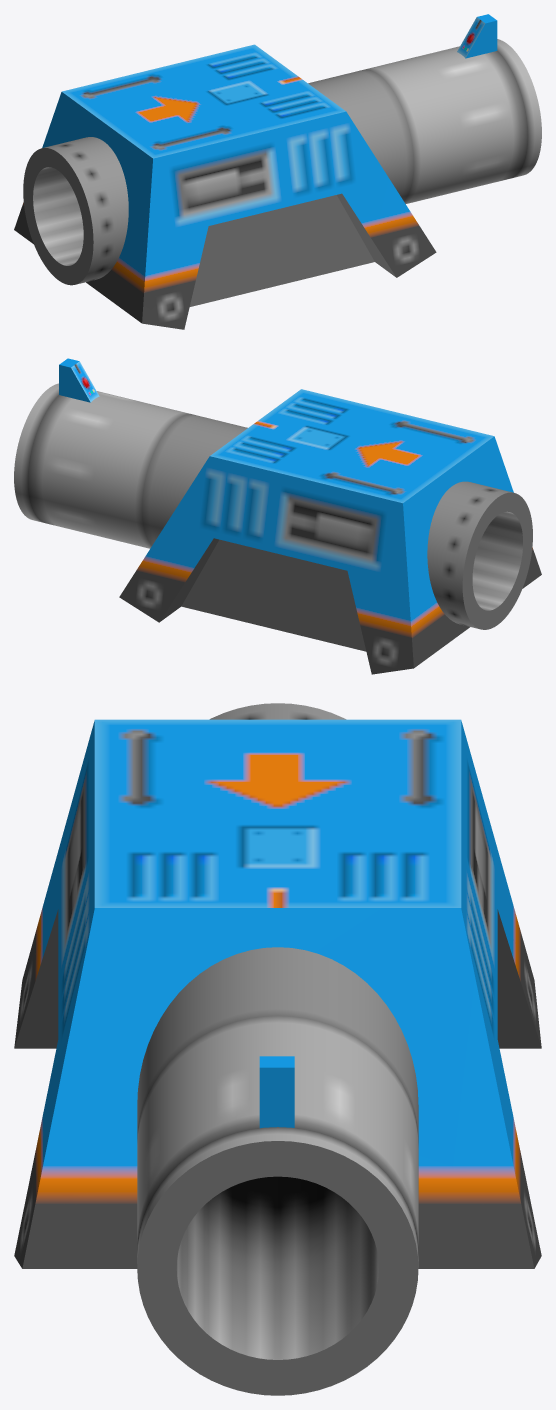
Rendered from canon.obj.
The picture shows the model from 3 angles, top to bottom: view 1: azimuth 30°, elevation 25°; view 2: azimuth 150°, elevation 25°; view 3: azimuth 270°, elevation 25°; orthographic projection. The views are drawn at different scales.
Visible parts, largest first — view 1: ColobotMesh_1_ColobotMesh_; view 2: ColobotMesh_1_ColobotMesh_; view 3: ColobotMesh_1_ColobotMesh_.
Boxes of the visible parts, x1,y1,x2,y2 form: ColobotMesh_1_ColobotMesh_: [14, 14, 541, 329]; ColobotMesh_1_ColobotMesh_: [14, 358, 541, 674]; ColobotMesh_1_ColobotMesh_: [14, 703, 541, 1395].
Bounding box in the file's own units: 5.9 × 2.18 × 3.
